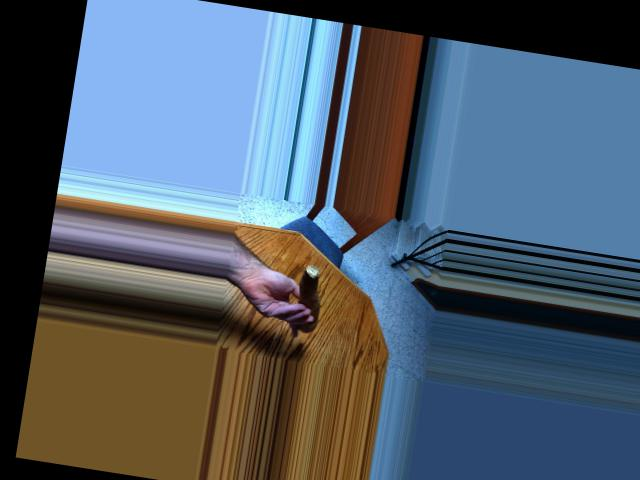sweet_potato: (289, 268, 328, 328)
